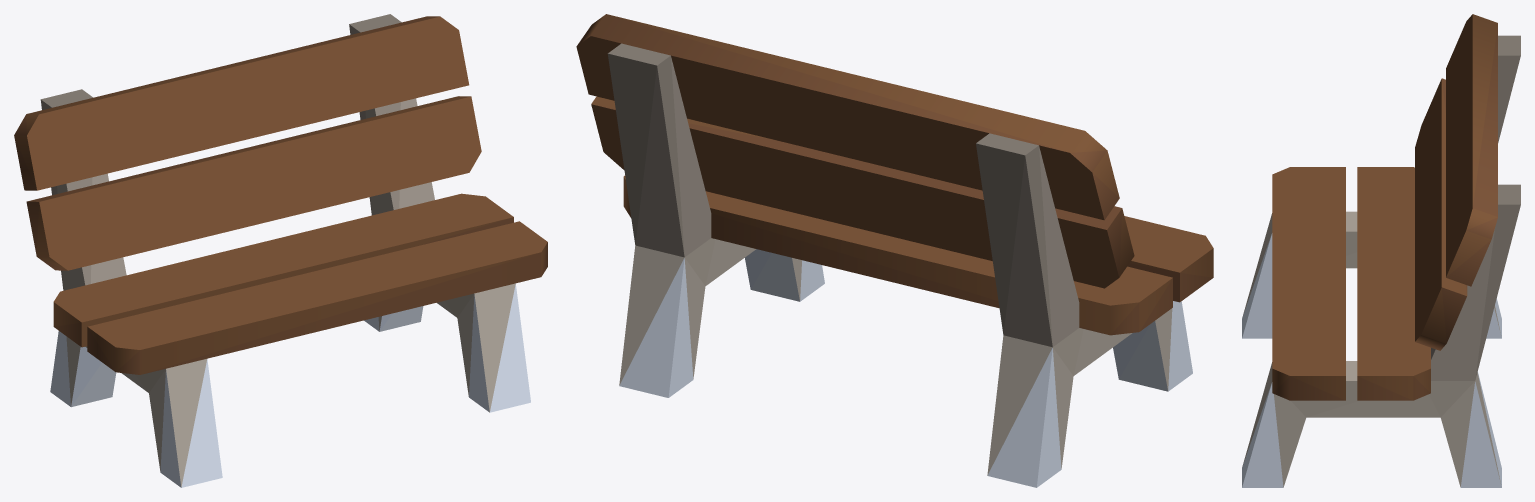
The model's file is kenney_graveyard_bench.glb.
3 views of the same model, side by side, from view 1: azimuth 30°, elevation 25°; view 2: azimuth 150°, elevation 25°; view 3: azimuth 270°, elevation 25° (orthographic). The views are drawn at different scales.
Parts seen in each view (by area): view 1: wood, stone, cloth; view 2: wood, stone, cloth; view 3: wood, stone, cloth.
Part boxes in pixels (box(x1,y1,x2,y2)): wood: box(14, 16, 547, 374); stone: box(40, 14, 515, 486); cloth: box(50, 284, 530, 487); wood: box(576, 14, 1213, 335); stone: box(607, 43, 1172, 475); cloth: box(619, 249, 1192, 487); wood: box(1272, 14, 1497, 400); stone: box(1242, 35, 1520, 487); cloth: box(1242, 233, 1501, 487).
Size of the model in its own units: 0.8072 by 0.526 by 0.4551.
